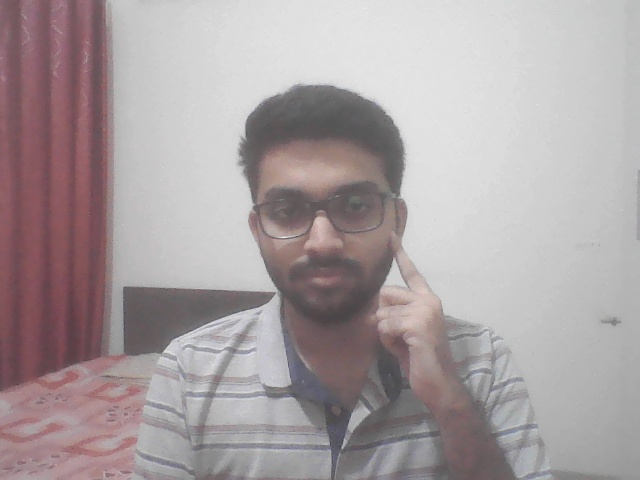deaf: (367, 214, 473, 407)
